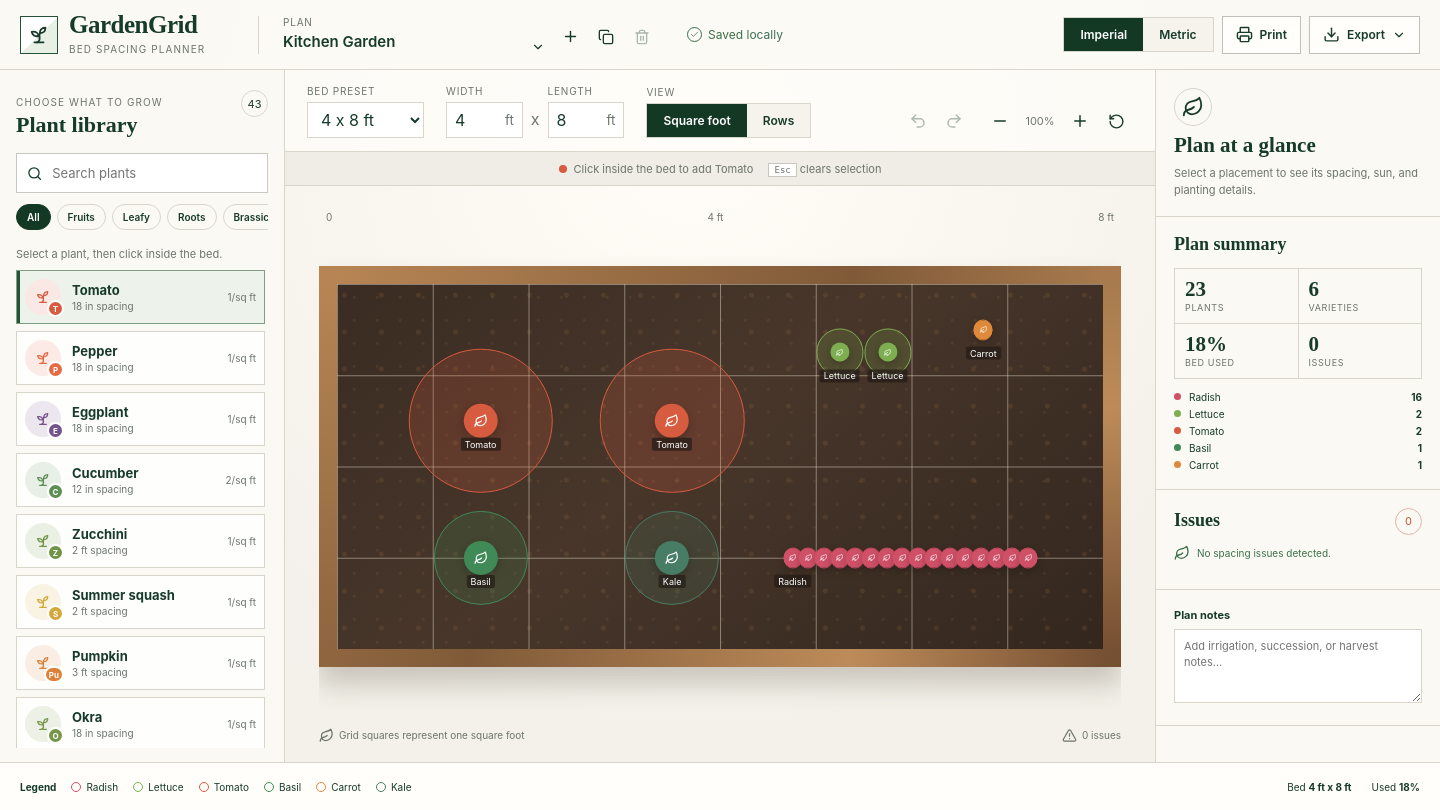
Test: GardenGrid application › filters and selects plants from the library
The width and height of the screenshot is (1440, 810).
Type "basil" into the search field labelled "Search plants" at (154, 173), box [50,164,257,182]
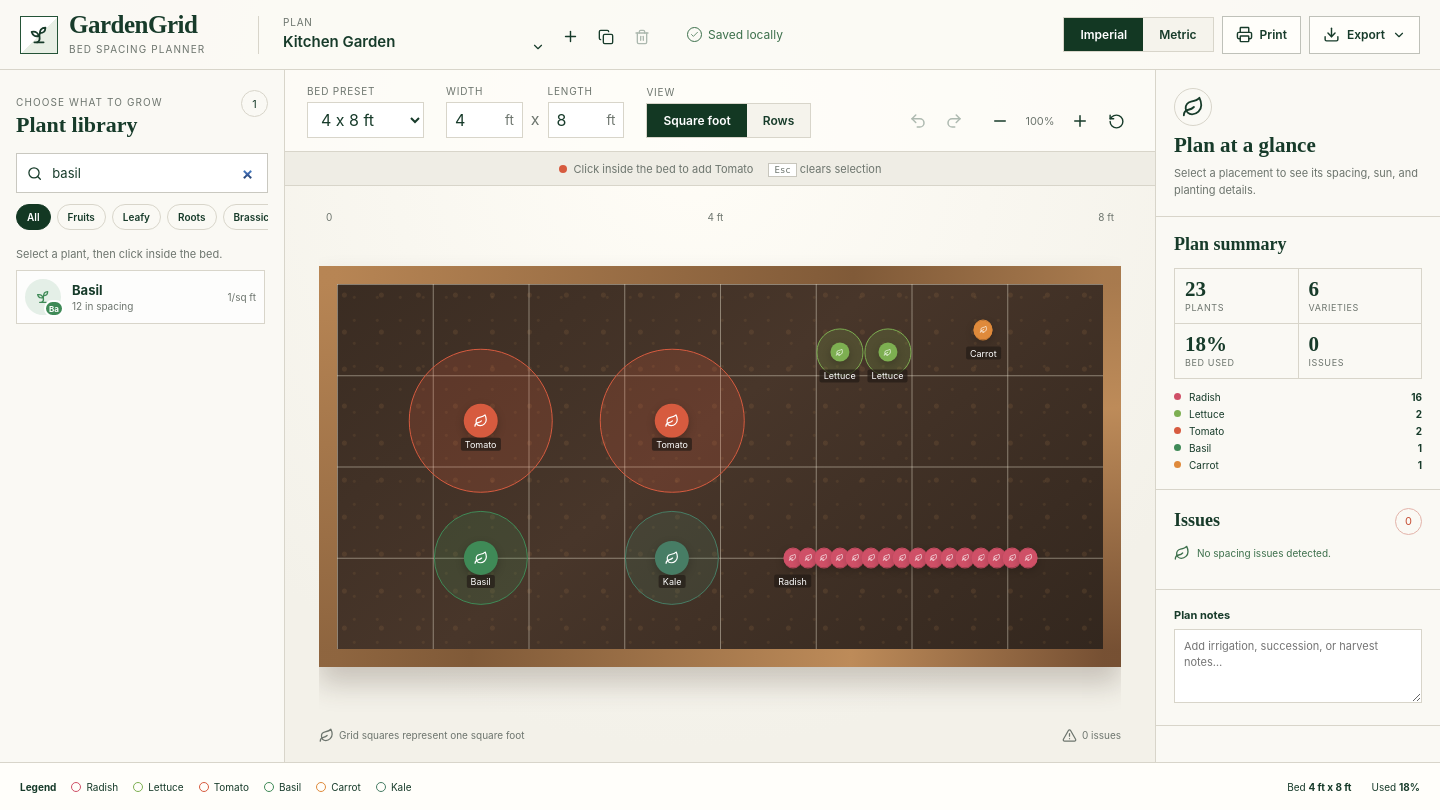
Check: the button with aria-label "select basil" is shown
Click the button with aria-label "select basil" at (140, 297), box [16,270,265,324]
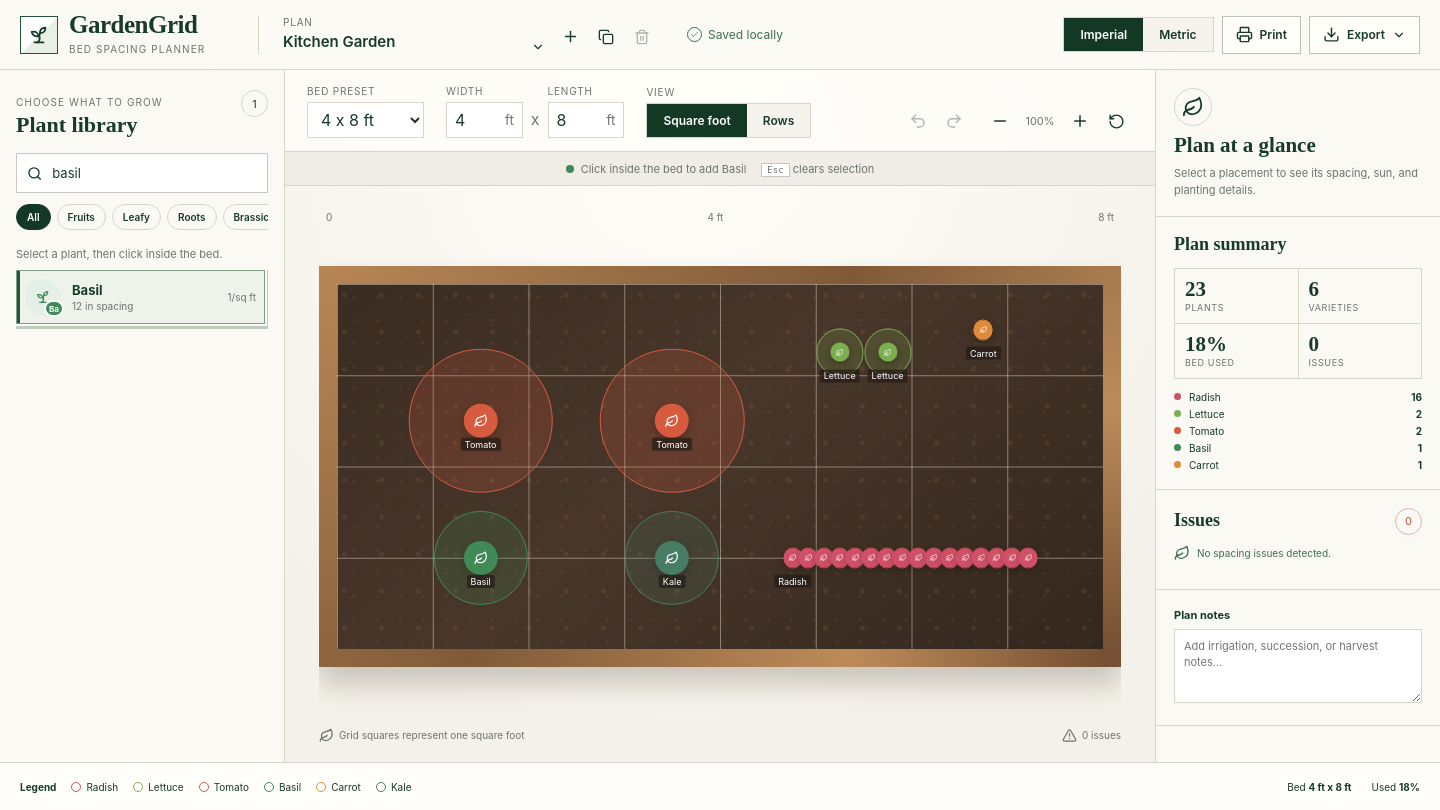
Check: the text "Click inside the bed to add Basil Esc clears selection" is shown, box [285,152,1155,186]
